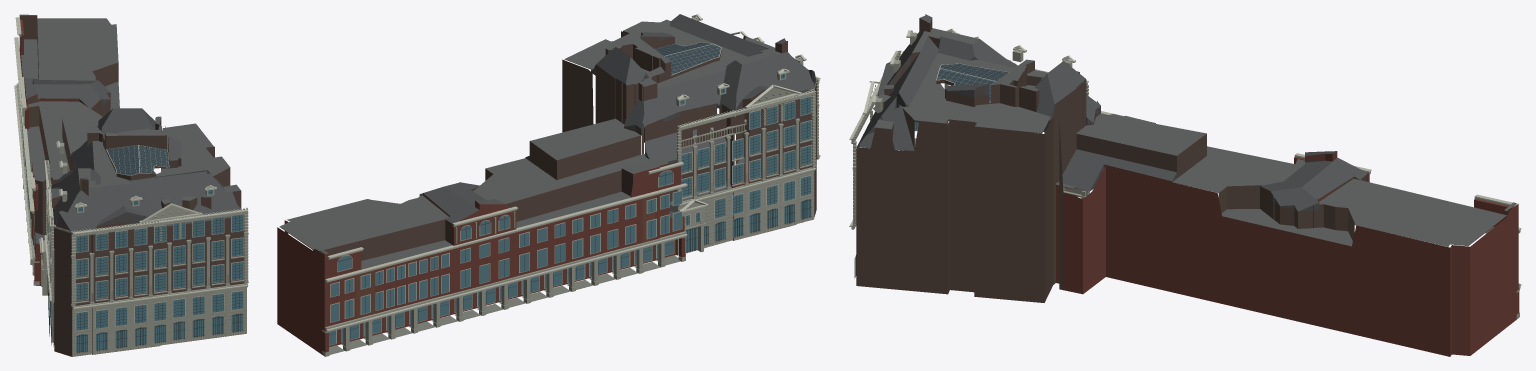
3 renders of one model, left to right at view 1: azimuth 30°, elevation 25°; view 2: azimuth 150°, elevation 25°; view 3: azimuth 270°, elevation 25°, orthographic. The views are drawn at different scales.
Visible parts, largest first — view 1: 0363100012167897; view 2: 0363100012167897; view 3: 0363100012167897.
Part boxes in pixels (x1,y1,x2,y2): 0363100012167897: (14,14,248,356); 0363100012167897: (277,14,820,356); 0363100012167897: (849,14,1521,356).
Size of the model in its own units: 49.7 by 28.04 by 85.39.
